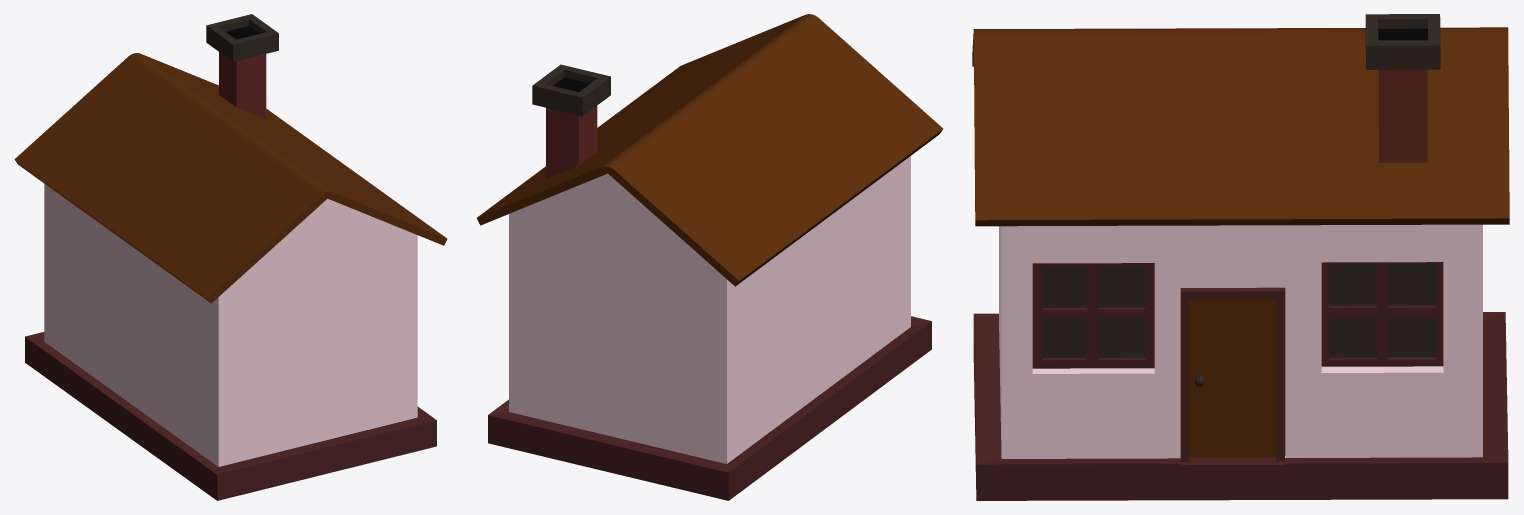
Rendered from house2.fbx.
3 views of the same model, side by side, from view 1: azimuth 30°, elevation 25°; view 2: azimuth 150°, elevation 25°; view 3: azimuth 270°, elevation 25° (orthographic). The views are drawn at different scales.
Parts seen in each view (by area): view 1: House2; view 2: House2; view 3: House2.
Part boxes in pixels (x1,y1,x2,y2): House2: (14,14,447,500); House2: (476,14,943,500); House2: (972,14,1509,500).
Bounding box in the file's own units: 1123 × 1392 × 1532.
